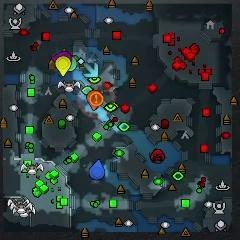Other: (89, 92, 104, 106)
p1: (89, 159, 105, 180)
p2: (67, 57, 76, 72)
p3: (52, 52, 72, 62)
p4: (56, 56, 71, 77)
p5: (86, 90, 102, 111)
x3: (83, 62, 99, 78)
